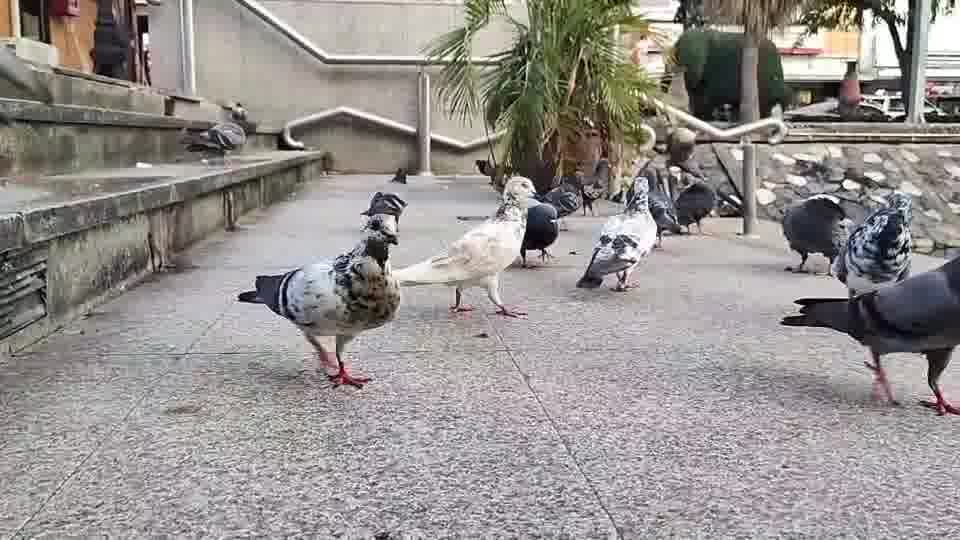Pigeon: (779, 253, 959, 416), (236, 219, 402, 389), (391, 176, 535, 319), (575, 175, 659, 292), (831, 190, 913, 301), (779, 192, 847, 275), (359, 190, 408, 242), (387, 166, 408, 184)
